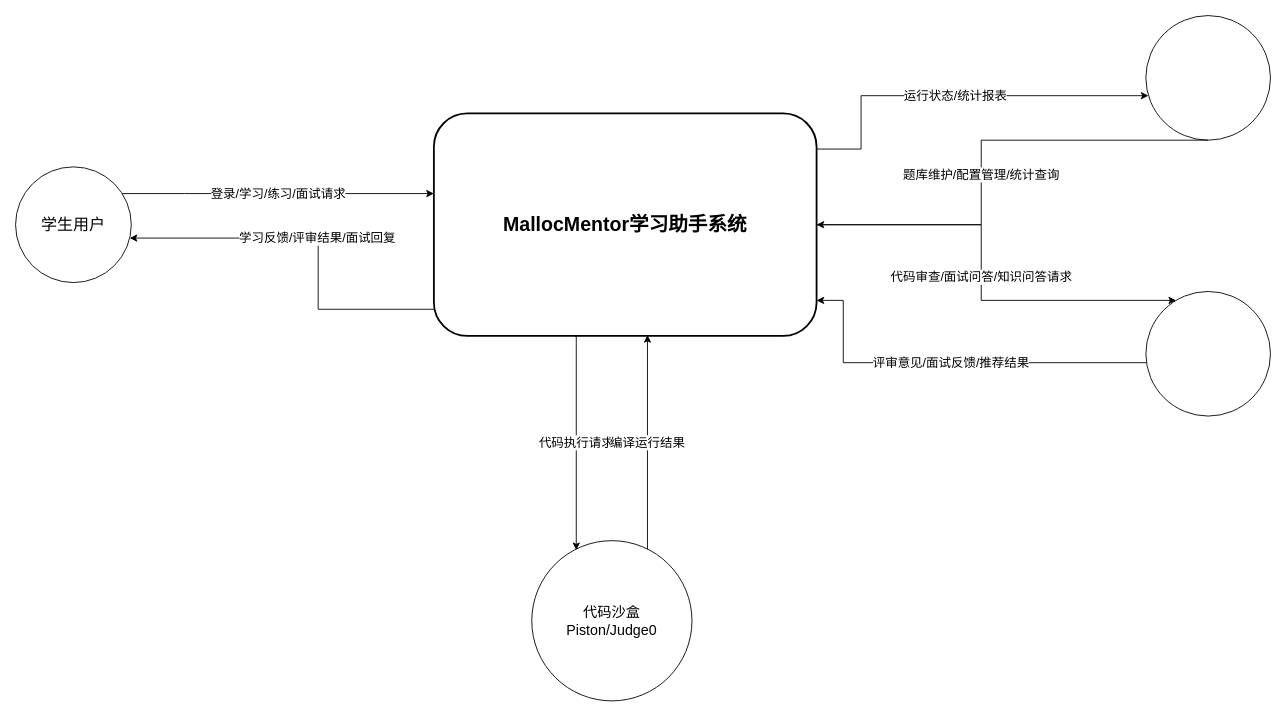
This 1286x716 diagram has some shape labels left out. The box of each missing label's shape, as (x1, y1, x2, y2) in pixels:
Coze AI服务: (1145, 291, 1270, 416)
教师/管理员: (1145, 15, 1270, 140)
